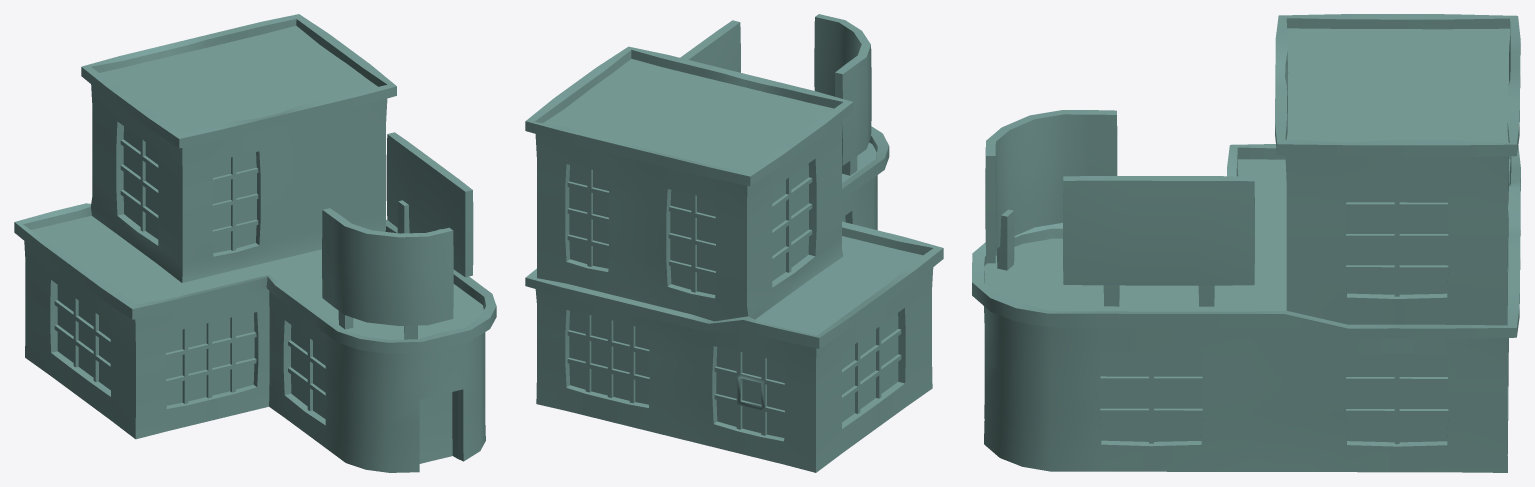
File: building 12.fbx
The picture shows the model from 3 angles, left to right: view 1: azimuth 30°, elevation 25°; view 2: azimuth 150°, elevation 25°; view 3: azimuth 270°, elevation 25°; orthographic projection. The views are drawn at different scales.
Parts seen in each view (by area): view 1: building 12; view 2: building 12; view 3: building 12.
Part boxes in pixels (x1=…): building 12: x1=14, y1=14, x2=496, y2=472; building 12: x1=525, y1=14, x2=943, y2=472; building 12: x1=972, y1=14, x2=1520, y2=472.
Bounding box in the file's own units: 2565 × 2331 × 3479.
